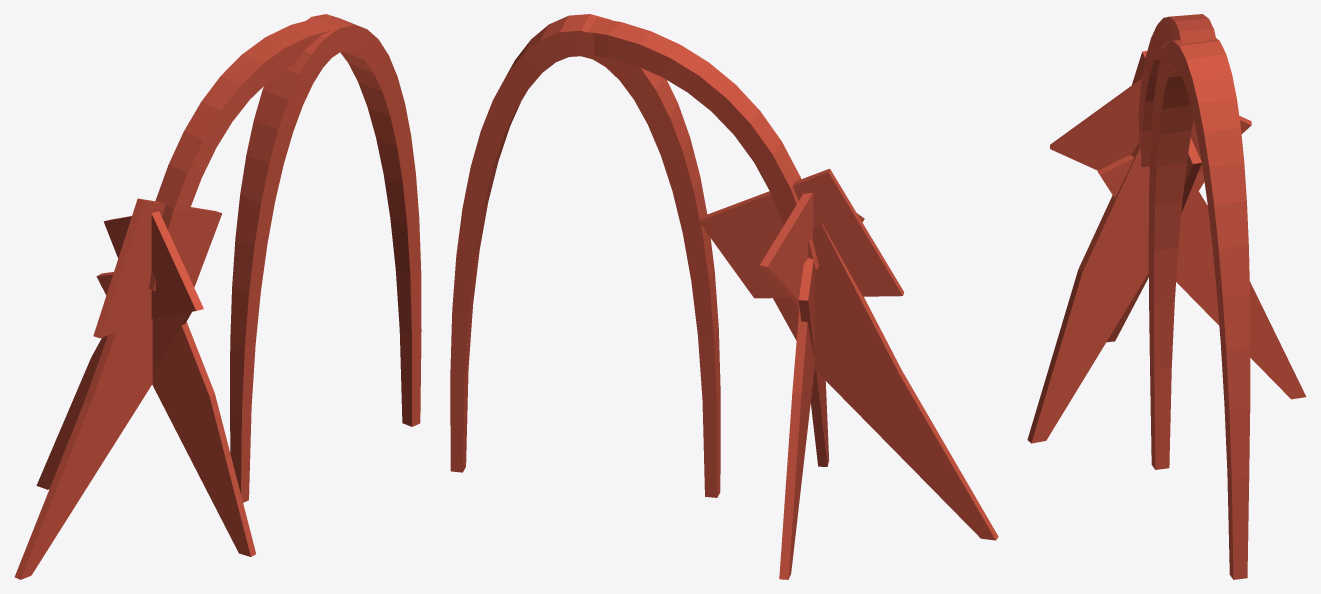
Rendered from detail.glb.
The picture shows the model from 3 angles, left to right: view 1: azimuth 30°, elevation 25°; view 2: azimuth 150°, elevation 25°; view 3: azimuth 270°, elevation 25°; orthographic projection. The views are drawn at different scales.
Visible parts, largest first — view 1: flamingo-chicago; view 2: flamingo-chicago; view 3: flamingo-chicago.
Part boxes in pixels (bbox=[...]): flamingo-chicago: bbox=[14, 14, 421, 579]; flamingo-chicago: bbox=[450, 14, 998, 579]; flamingo-chicago: bbox=[1027, 14, 1306, 579].
Bounding box in the file's own units: 17.85 × 16.2 × 8.58.
